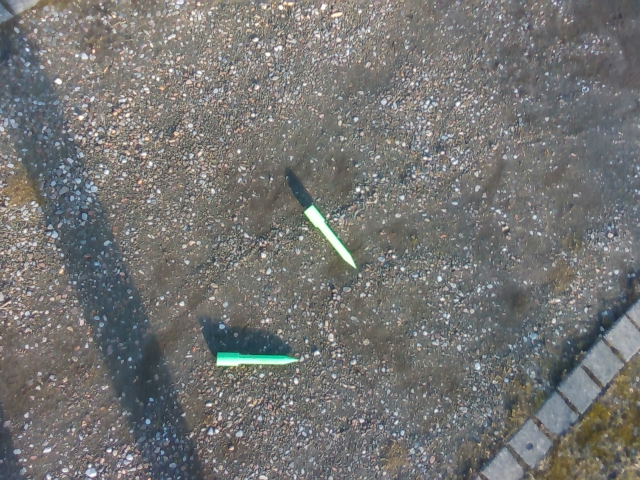Probe: (300, 199, 359, 272), (210, 350, 305, 373)
